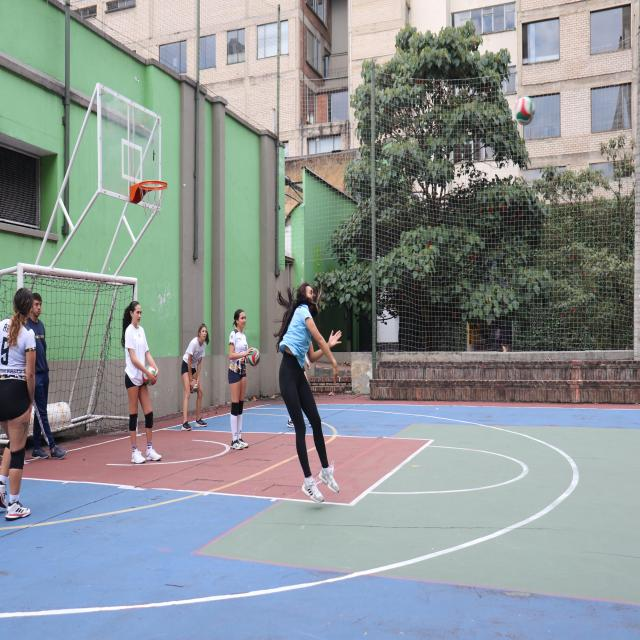volleyball: (515, 96, 536, 127), (143, 366, 156, 386), (248, 348, 260, 367), (190, 379, 198, 393)
